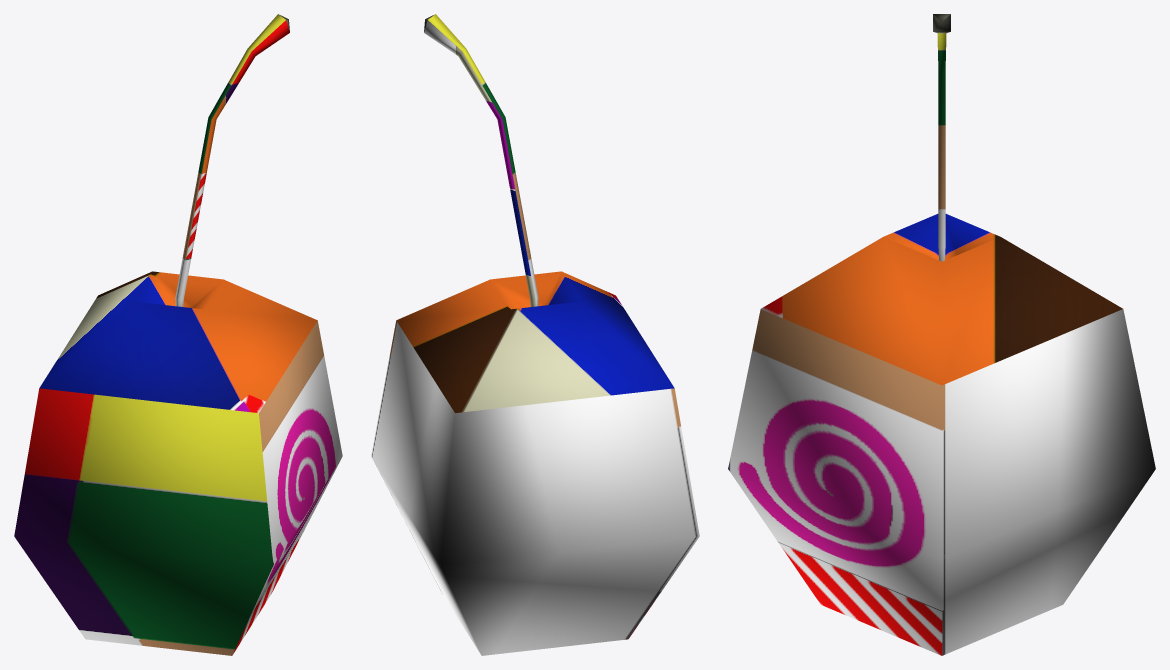
The model's file is big cherry lp.fbx.
The picture shows the model from 3 angles, left to right: view 1: azimuth 30°, elevation 25°; view 2: azimuth 150°, elevation 25°; view 3: azimuth 270°, elevation 25°; orthographic projection. The views are drawn at different scales.
Visible parts, largest first — view 1: ciliegia_big_lp, pistillo_lp; view 2: ciliegia_big_lp, pistillo_lp; view 3: ciliegia_big_lp, pistillo_lp.
Boxes of the visible parts, x1,y1,x2,y2 form: ciliegia_big_lp: [14, 271, 342, 655]; pistillo_lp: [175, 14, 289, 306]; ciliegia_big_lp: [371, 271, 699, 655]; pistillo_lp: [424, 14, 538, 306]; ciliegia_big_lp: [728, 214, 1155, 655]; pistillo_lp: [933, 14, 950, 261].
Size of the model in its own units: 1.1 by 1.94 by 1.1.
